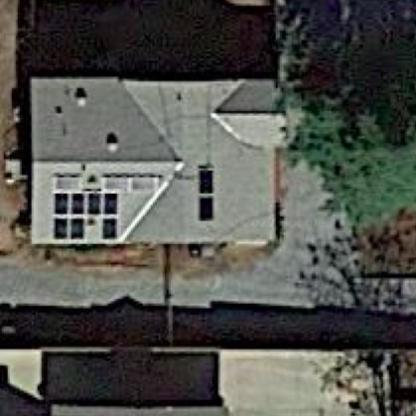solar_panel: (45, 180, 125, 242), (193, 159, 214, 223)
